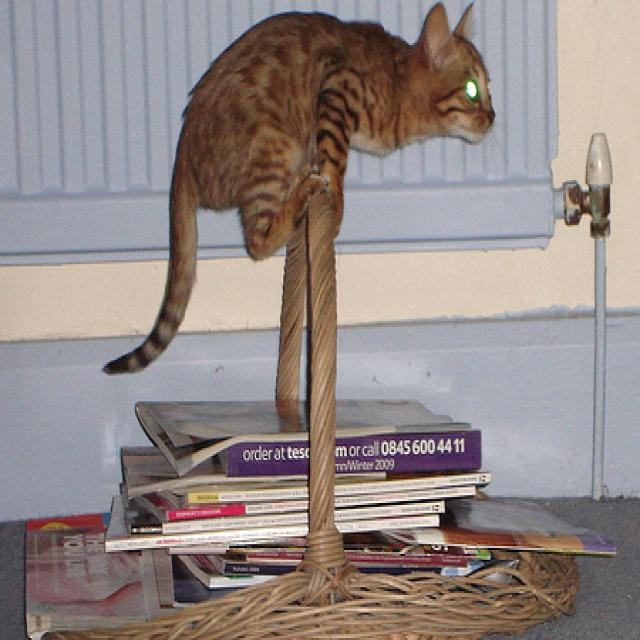Bengal: (98, 0, 499, 378)
